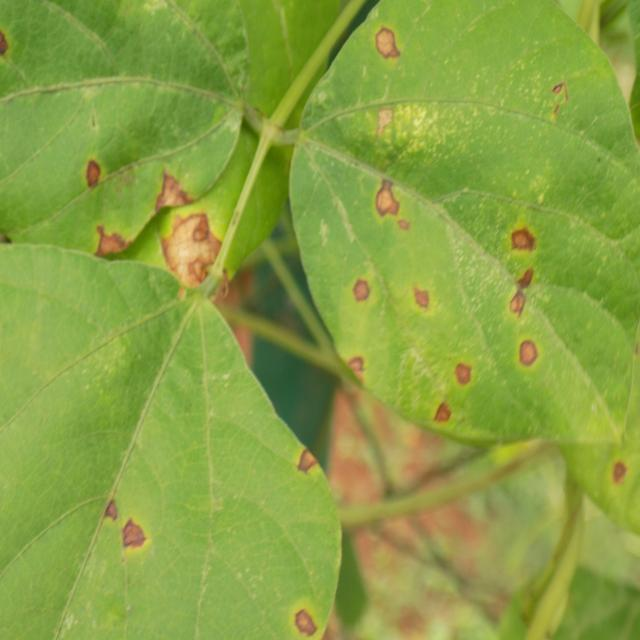Dolicos bean_cercospora leaf spot: (291, 0, 640, 453)
